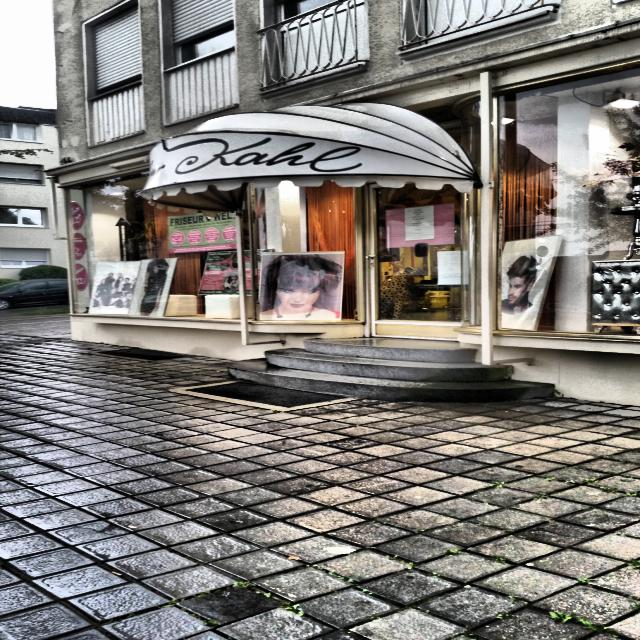escada: (224, 337, 556, 405)
